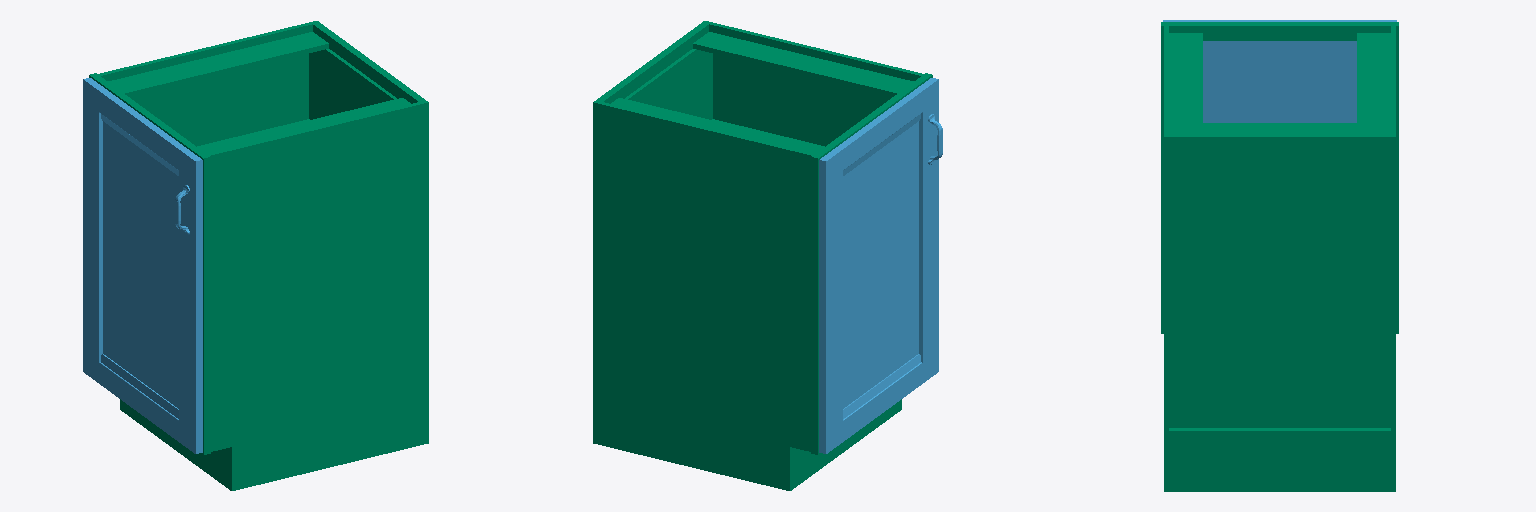
robot.urdf — partnet_3cfebf4fdfa1384da5feafe6f1c8fc:
<?xml version="1.0" ?>
<robot name="partnet_3cfebf4fdfa1384da5feafe6f1c8fc">
	<link name="base"/>
	<link name="link_0">
		<visual name="cabinet_door_surface-5">
			<origin xyz="0.49577881174326593 -0.7464690208435059 -0.5375078698994752"/>
			<geometry>
				<mesh filename="textured_objs/original-30.obj"/>
			</geometry>
		</visual>
		<visual name="cabinet_door_surface-5">
			<origin xyz="0.49577881174326593 -0.7464690208435059 -0.5375078698994752"/>
			<geometry>
				<mesh filename="textured_objs/original-24.obj"/>
			</geometry>
		</visual>
		<visual name="cabinet_door_surface-5">
			<origin xyz="0.49577881174326593 -0.7464690208435059 -0.5375078698994752"/>
			<geometry>
				<mesh filename="textured_objs/original-25.obj"/>
			</geometry>
		</visual>
		<visual name="cabinet_door_surface-5">
			<origin xyz="0.49577881174326593 -0.7464690208435059 -0.5375078698994752"/>
			<geometry>
				<mesh filename="textured_objs/original-26.obj"/>
			</geometry>
		</visual>
		<visual name="cabinet_door_surface-5">
			<origin xyz="0.49577881174326593 -0.7464690208435059 -0.5375078698994752"/>
			<geometry>
				<mesh filename="textured_objs/original-27.obj"/>
			</geometry>
		</visual>
		<visual name="cabinet_door_surface-5">
			<origin xyz="0.49577881174326593 -0.7464690208435059 -0.5375078698994752"/>
			<geometry>
				<mesh filename="textured_objs/original-29.obj"/>
			</geometry>
		</visual>
		<visual name="handle-6">
			<origin xyz="0.49577881174326593 -0.7464690208435059 -0.5375078698994752"/>
			<geometry>
				<mesh filename="textured_objs/original-31.obj"/>
			</geometry>
		</visual>
		<collision>
			<origin xyz="0.49577881174326593 -0.7464690208435059 -0.5375078698994752"/>
			<geometry>
				<mesh filename="textured_objs/original-30.obj"/>
			</geometry>
		</collision>
		<collision>
			<origin xyz="0.49577881174326593 -0.7464690208435059 -0.5375078698994752"/>
			<geometry>
				<mesh filename="textured_objs/original-24.obj"/>
			</geometry>
		</collision>
		<collision>
			<origin xyz="0.49577881174326593 -0.7464690208435059 -0.5375078698994752"/>
			<geometry>
				<mesh filename="textured_objs/original-25.obj"/>
			</geometry>
		</collision>
		<collision>
			<origin xyz="0.49577881174326593 -0.7464690208435059 -0.5375078698994752"/>
			<geometry>
				<mesh filename="textured_objs/original-26.obj"/>
			</geometry>
		</collision>
		<collision>
			<origin xyz="0.49577881174326593 -0.7464690208435059 -0.5375078698994752"/>
			<geometry>
				<mesh filename="textured_objs/original-27.obj"/>
			</geometry>
		</collision>
		<collision>
			<origin xyz="0.49577881174326593 -0.7464690208435059 -0.5375078698994752"/>
			<geometry>
				<mesh filename="textured_objs/original-29.obj"/>
			</geometry>
		</collision>
		<collision>
			<origin xyz="0.49577881174326593 -0.7464690208435059 -0.5375078698994752"/>
			<geometry>
				<mesh filename="textured_objs/original-31.obj"/>
			</geometry>
		</collision>
	</link>
	<joint name="joint_0" type="revolute">
		<origin xyz="-0.49577881174326593 0.7464690208435059 0.5375078698994752"/>
		<axis xyz="0 -1 0"/>
		<child link="link_0"/>
		<parent link="link_1"/>
		<limit lower="-0.0" upper="2.9670597283903604"/>
	</joint>
	<link name="link_1">
		<visual name="shelf-13">
			<origin xyz="0 0 0"/>
			<geometry>
				<mesh filename="textured_objs/original-22.obj"/>
			</geometry>
		</visual>
		<visual name="shelf-14">
			<origin xyz="0 0 0"/>
			<geometry>
				<mesh filename="textured_objs/original-2.obj"/>
			</geometry>
		</visual>
		<visual name="base_side_panel-8">
			<origin xyz="0 0 0"/>
			<geometry>
				<mesh filename="textured_objs/original-17.obj"/>
			</geometry>
		</visual>
		<visual name="base_side_panel-9">
			<origin xyz="0 0 0"/>
			<geometry>
				<mesh filename="textured_objs/original-13.obj"/>
			</geometry>
		</visual>
		<visual name="base_side_panel-10">
			<origin xyz="0 0 0"/>
			<geometry>
				<mesh filename="textured_objs/original-18.obj"/>
			</geometry>
		</visual>
		<visual name="base_side_panel-11">
			<origin xyz="0 0 0"/>
			<geometry>
				<mesh filename="textured_objs/original-19.obj"/>
			</geometry>
		</visual>
		<visual name="vertical_side_panel-15">
			<origin xyz="0 0 0"/>
			<geometry>
				<mesh filename="textured_objs/original-12.obj"/>
			</geometry>
		</visual>
		<visual name="vertical_side_panel-15">
			<origin xyz="0 0 0"/>
			<geometry>
				<mesh filename="textured_objs/original-11.obj"/>
			</geometry>
		</visual>
		<visual name="vertical_side_panel-16">
			<origin xyz="0 0 0"/>
			<geometry>
				<mesh filename="textured_objs/original-16.obj"/>
			</geometry>
		</visual>
		<visual name="vertical_side_panel-16">
			<origin xyz="0 0 0"/>
			<geometry>
				<mesh filename="textured_objs/original-15.obj"/>
			</geometry>
		</visual>
		<visual name="back_panel-17">
			<origin xyz="0 0 0"/>
			<geometry>
				<mesh filename="textured_objs/original-6.obj"/>
			</geometry>
		</visual>
		<visual name="bottom_panel-18">
			<origin xyz="0 0 0"/>
			<geometry>
				<mesh filename="textured_objs/original-3.obj"/>
			</geometry>
		</visual>
		<visual name="frame_vertical_bar-19">
			<origin xyz="0 0 0"/>
			<geometry>
				<mesh filename="textured_objs/original-4.obj"/>
			</geometry>
		</visual>
		<visual name="frame_vertical_bar-20">
			<origin xyz="0 0 0"/>
			<geometry>
				<mesh filename="textured_objs/original-8.obj"/>
			</geometry>
		</visual>
		<visual name="frame_horizontal_bar-21">
			<origin xyz="0 0 0"/>
			<geometry>
				<mesh filename="textured_objs/original-7.obj"/>
			</geometry>
		</visual>
		<visual name="frame_horizontal_bar-22">
			<origin xyz="0 0 0"/>
			<geometry>
				<mesh filename="textured_objs/original-20.obj"/>
			</geometry>
		</visual>
		<visual name="frame_horizontal_bar-23">
			<origin xyz="0 0 0"/>
			<geometry>
				<mesh filename="textured_objs/original-21.obj"/>
			</geometry>
		</visual>
		<visual name="frame_horizontal_bar-24">
			<origin xyz="0 0 0"/>
			<geometry>
				<mesh filename="textured_objs/original-9.obj"/>
			</geometry>
		</visual>
		<visual name="frame_horizontal_bar-25">
			<origin xyz="0 0 0"/>
			<geometry>
				<mesh filename="textured_objs/original-5.obj"/>
			</geometry>
		</visual>
		<visual name="other_leaf-27">
			<origin xyz="0 0 0"/>
			<geometry>
				<mesh filename="textured_objs/original-32.obj"/>
			</geometry>
		</visual>
		<collision>
			<origin xyz="0 0 0"/>
			<geometry>
				<mesh filename="textured_objs/original-22.obj"/>
			</geometry>
		</collision>
		<collision>
			<origin xyz="0 0 0"/>
			<geometry>
				<mesh filename="textured_objs/original-2.obj"/>
			</geometry>
		</collision>
		<collision>
			<origin xyz="0 0 0"/>
			<geometry>
				<mesh filename="textured_objs/original-17.obj"/>
			</geometry>
		</collision>
		<collision>
			<origin xyz="0 0 0"/>
			<geometry>
				<mesh filename="textured_objs/original-13.obj"/>
			</geometry>
		</collision>
		<collision>
			<origin xyz="0 0 0"/>
			<geometry>
				<mesh filename="textured_objs/original-18.obj"/>
			</geometry>
		</collision>
		<collision>
			<origin xyz="0 0 0"/>
			<geometry>
				<mesh filename="textured_objs/original-19.obj"/>
			</geometry>
		</collision>
		<collision>
			<origin xyz="0 0 0"/>
			<geometry>
				<mesh filename="textured_objs/original-12.obj"/>
			</geometry>
		</collision>
		<collision>
			<origin xyz="0 0 0"/>
			<geometry>
				<mesh filename="textured_objs/original-11.obj"/>
			</geometry>
		</collision>
		<collision>
			<origin xyz="0 0 0"/>
			<geometry>
				<mesh filename="textured_objs/original-16.obj"/>
			</geometry>
		</collision>
		<collision>
			<origin xyz="0 0 0"/>
			<geometry>
				<mesh filename="textured_objs/original-15.obj"/>
			</geometry>
		</collision>
		<collision>
			<origin xyz="0 0 0"/>
			<geometry>
				<mesh filename="textured_objs/original-6.obj"/>
			</geometry>
		</collision>
		<collision>
			<origin xyz="0 0 0"/>
			<geometry>
				<mesh filename="textured_objs/original-3.obj"/>
			</geometry>
		</collision>
		<collision>
			<origin xyz="0 0 0"/>
			<geometry>
				<mesh filename="textured_objs/original-4.obj"/>
			</geometry>
		</collision>
		<collision>
			<origin xyz="0 0 0"/>
			<geometry>
				<mesh filename="textured_objs/original-8.obj"/>
			</geometry>
		</collision>
		<collision>
			<origin xyz="0 0 0"/>
			<geometry>
				<mesh filename="textured_objs/original-7.obj"/>
			</geometry>
		</collision>
		<collision>
			<origin xyz="0 0 0"/>
			<geometry>
				<mesh filename="textured_objs/original-20.obj"/>
			</geometry>
		</collision>
		<collision>
			<origin xyz="0 0 0"/>
			<geometry>
				<mesh filename="textured_objs/original-21.obj"/>
			</geometry>
		</collision>
		<collision>
			<origin xyz="0 0 0"/>
			<geometry>
				<mesh filename="textured_objs/original-9.obj"/>
			</geometry>
		</collision>
		<collision>
			<origin xyz="0 0 0"/>
			<geometry>
				<mesh filename="textured_objs/original-5.obj"/>
			</geometry>
		</collision>
		<collision>
			<origin xyz="0 0 0"/>
			<geometry>
				<mesh filename="textured_objs/original-32.obj"/>
			</geometry>
		</collision>
	</link>
	<joint name="joint_1" type="fixed">
		<origin rpy="1.570796326794897 0 -1.570796326794897" xyz="0 0 0"/>
		<child link="link_1"/>
		<parent link="base"/>
	</joint>
</robot>

--- Render facts (derived) ---
3 views of the same robot in one strip: view 1: azimuth 30°, elevation 25°; view 2: azimuth 150°, elevation 25°; view 3: azimuth 270°, elevation 25° (orthographic).
Model partnet_3cfebf4fdfa1384da5feafe6f1c8fc with 3 links and 2 joints (1 revolute, 1 fixed), rooted at base, posed all joints at 0.
Links seen in each view (by area): view 1: link_1, link_0; view 2: link_1, link_0; view 3: link_1, link_0.
Boxes of the visible links, <box> form: link_1: <box>89,21,428,490</box>; link_0: <box>83,78,202,453</box>; link_1: <box>593,21,932,490</box>; link_0: <box>819,78,942,453</box>; link_1: <box>1161,22,1398,491</box>; link_0: <box>1163,20,1396,122</box>.
Size in the robot's own frame: 1.19 by 0.9656 by 1.59 metres.
27 mesh visuals loaded from 27 distinct referenced files (27 OBJ).
